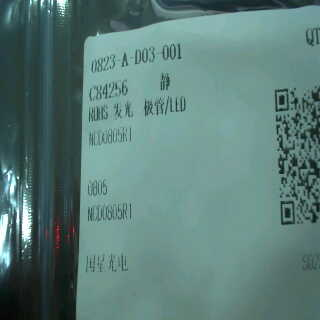LED: (110, 97, 193, 119)
